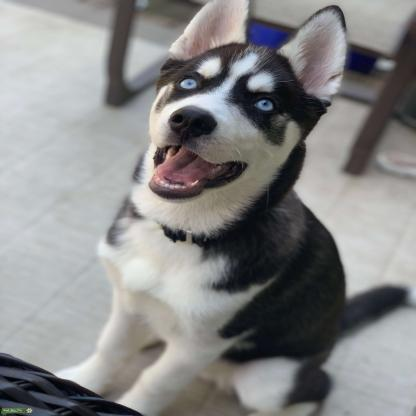dog: (42, 2, 409, 416)
